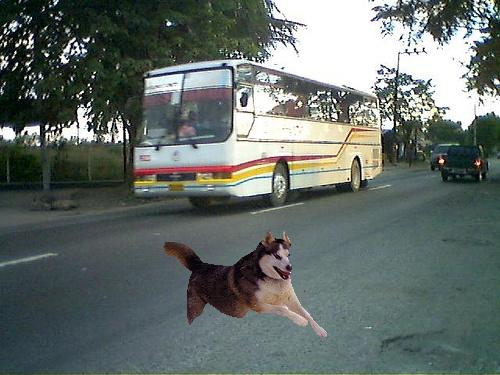tampered: (163, 231, 327, 337)
